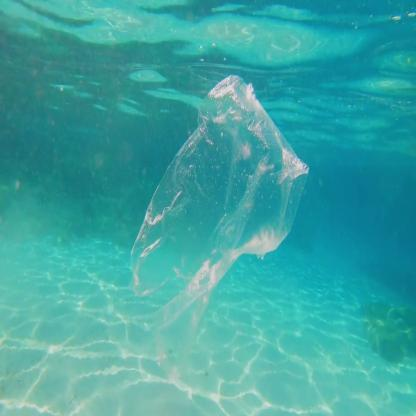Rác: (103, 46, 338, 342)
